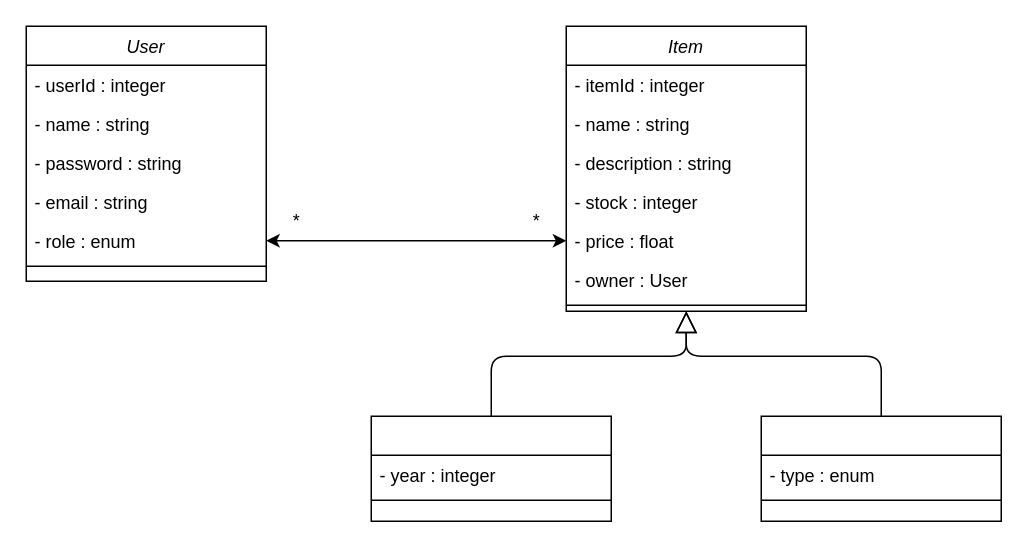
The diagram is 1028 pixels wide and 548 high, and some of its shapes have lost their labels. Each missing label, with the box of its shape:
Furniture: (760, 415, 1001, 521)
Vehicule: (370, 415, 611, 521)
